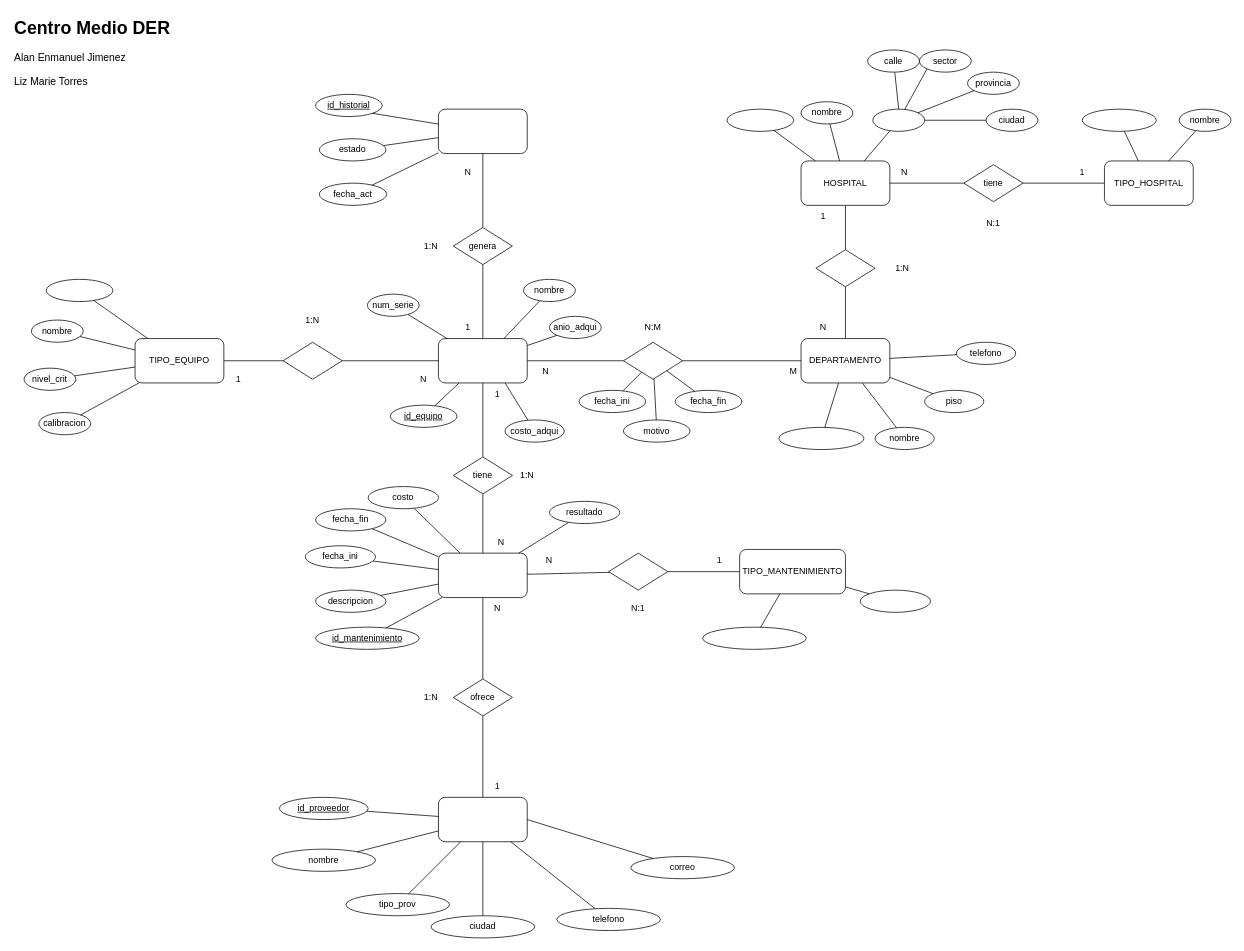
Some shapes in this 1244 by 951 pixel diagram are drawn without their labels. Each missing label, with the box of its shape:
asigna: (623, 342, 683, 379)
asignado: (282, 342, 342, 379)
direccion: (872, 108, 925, 131)
EQUIPO_MEDICO: (438, 338, 527, 383)
formado: (815, 249, 875, 287)
HISTORIAL_ESTADO: (438, 108, 527, 154)
id_departamento: (778, 427, 864, 450)
id_hospital: (726, 108, 794, 131)
id_tipo_equipo: (46, 279, 113, 302)
id_tipo_hospital: (1082, 108, 1156, 131)
id_tipo_mantenimiento: (702, 626, 806, 649)
MANTENIMIENTO: (438, 552, 527, 598)
nombre_t_man: (860, 589, 931, 612)
PROVEEDOR: (438, 797, 527, 842)
realiza: (608, 552, 668, 590)
